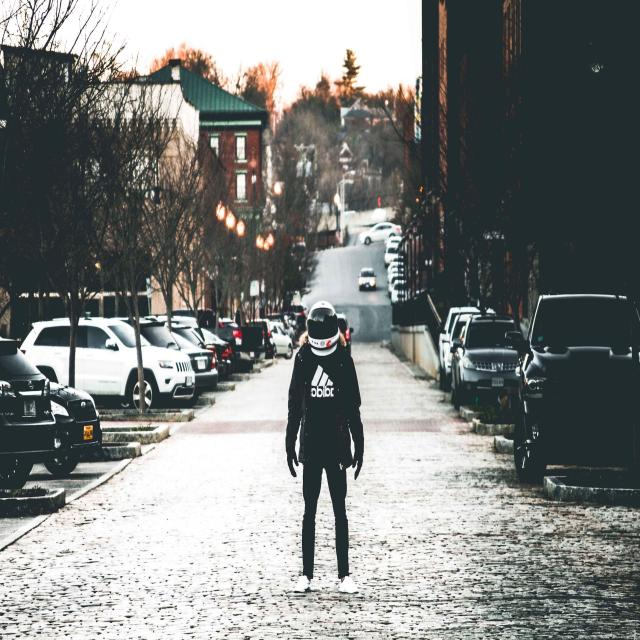adult: (284, 304, 368, 595)
